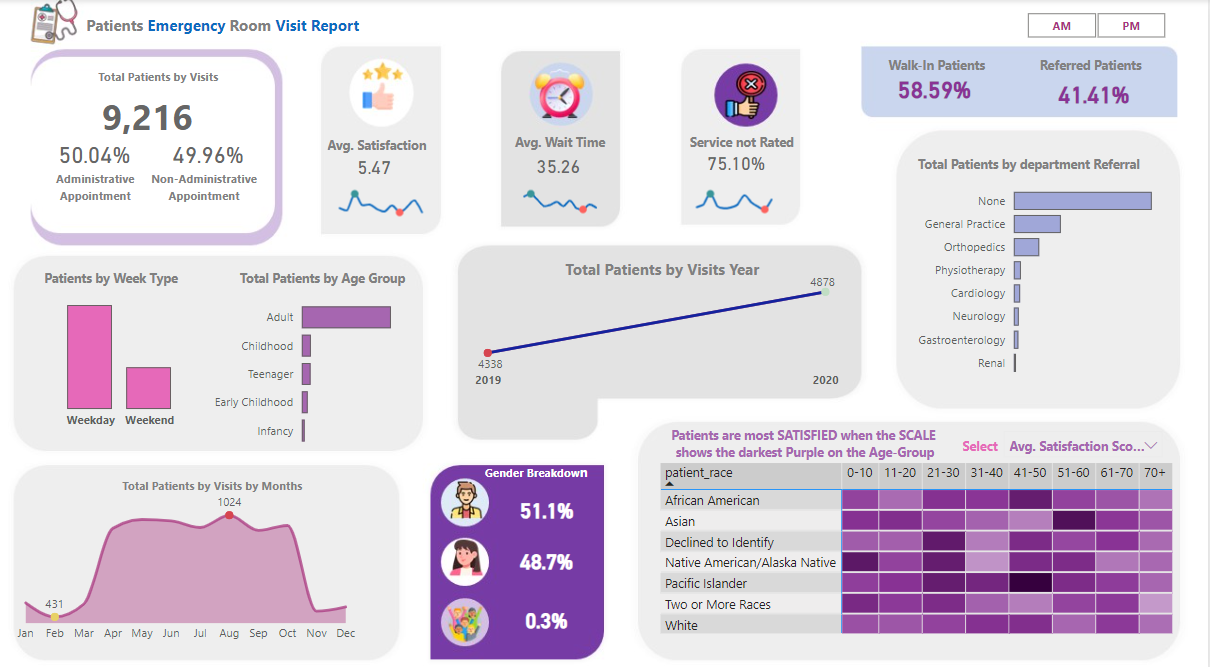

Layout of this report page (visuals, bound fields, positions):
{"tool":"powerbi","page":{"name":"Page 1","canvas":[1280,720],"ordinal":0},"visuals":[{"type":"card","fields":{"Values":["Calculation.Total Patients"]},"box":[50.9,98.6,210,50.9],"z":0},{"type":"card","fields":{"Values":["Calculation.% Administrative Schedule"]},"box":[49.3,149.5,100.2,30.2],"z":1000},{"type":"card","fields":{"Values":["Calculation.Non - Administrative Schedule"]},"box":[155.9,147.9,128.8,31.8],"z":2000},{"type":"card","fields":{"Values":["Calculation.% No Rating"]},"box":[720.5,159.1,119.3,30.2],"z":3000},{"type":"card","fields":{"Values":["Calculation.Average Wait Time"]},"box":[563.1,163.8,57.3,27],"z":4000},{"type":"clusteredBarChart","fields":{"Category":["Patient Dataset.Age Group"],"Y":["Calculation.Total Patients"]},"box":[214.7,300.6,216.3,186.1],"z":5000},{"type":"lineChart","title":"Total Patients visits","fields":{"Category":["Date.Month"],"Y":["Calculation.Total Patients","Calculation.Values Max Point (Month)"]},"box":[9.7,500.3,374,189.4],"z":6000},{"type":"lineChart","title":"Total Patients by Year","fields":{"Category":["Date.Year"],"Y":["Calculation.Total Patients","Calculation.Values Max Point (Year)"]},"box":[497.9,281.5,396.1,140],"z":7000},{"type":"clusteredBarChart","fields":{"Y":["Calculation.Total Patients"],"Category":["Patient Dataset.department_referral"]},"box":[960.7,181.3,281.5,229],"z":8000},{"type":"card","fields":{"Values":["Calculation.% Un Referred Patients"]},"box":[922.6,71.6,135.2,47.7],"z":9000},{"type":"card","fields":{"Values":["Calculation.HitMap Caption"]},"box":[695.1,432.6,316.5,76.3],"z":10000},{"type":"textbox","box":[46.1,175,109.8,62],"z":11000},{"type":"textbox","box":[147.9,175,136.8,58.9],"z":12000},{"type":"card","fields":{"Values":["Calculation.% Referred Patients"]},"box":[1113.4,77.9,92.3,46.1],"z":13000},{"type":"textbox","box":[1097.5,55.7,128.8,42.9],"z":14000},{"type":"textbox","box":[928.9,55.7,128.8,42.9],"z":15000},{"type":"clusteredColumnChart","title":"Patients by WeekType","fields":{"Y":["Calculation.Total Patients"],"Category":["Date.WeekType"]},"box":[9.5,286.3,235.4,178.1],"z":16000},{"type":"pivotTable","fields":{"Values":["Calculation.Average Satisfaction Score"],"Rows":["Patient Dataset.patient_race"],"Columns":["Patient Dataset.Age Buckets"]},"box":[695.1,486.7,563.1,192.5],"z":17000},{"type":"slicer","fields":{"Values":["Parameter.Parameter"]},"box":[1054.6,448.6,187.7,38.2],"z":18000},{"type":"textbox","box":[30.2,281.5,175,38.2],"z":19000},{"type":"card","fields":{"Values":["Calculation.% Female Visit"]},"box":[537.6,571,82.7,49.3],"z":20000},{"type":"card","fields":{"Values":["Calculation.% Male Visit"]},"box":[537.6,516.9,82.7,50.9],"z":21000},{"type":"card","fields":{"Values":["Calculation.% Unknown Visit"]},"box":[537.6,637.8,82.7,41.4],"z":22000},{"type":"textbox","box":[342,140,116.1,49.3],"z":23000},{"type":"textbox","box":[537.6,136.8,116.1,28.6],"z":24000},{"type":"textbox","box":[720.5,136.8,132,44.5],"z":25000},{"type":"textbox","box":[243.4,281.5,197.2,38.2],"z":26000},{"type":"textbox","box":[50.9,66.8,233.8,31.8],"z":27000},{"type":"card","fields":{"Values":["Calculation.Average Satisfaction Score"]},"box":[348.3,160.7,95.4,35],"z":28000},{"type":"PBI_CV_25997FEB_F466_44FA_B562_AC4063283C4C","fields":{"axis":["Date.Month"],"measure":["Calculation.Average Satisfaction Score"]},"box":[342,189.3,127.2,47.7],"z":29000},{"type":"PBI_CV_25997FEB_F466_44FA_B562_AC4063283C4C","fields":{"axis":["Date.Month"],"measure":["Calculation.Average Wait Time"]},"box":[537.6,189.3,116.1,44.5],"z":30000},{"type":"PBI_CV_25997FEB_F466_44FA_B562_AC4063283C4C","fields":{"axis":["Date.Month"],"measure":["Calculation.% No Rating"]},"box":[720.5,189.3,119.3,44.5],"z":31000},{"type":"textbox","box":[956,160.7,270.4,44.5],"z":32000},{"type":"textbox","box":[108.2,501,233.8,31.8],"z":33000},{"type":"textbox","box":[497.9,486.7,141.6,41.4],"z":34000},{"type":"textbox","box":[585.3,270.4,233.8,31.8],"z":35000},{"type":"textbox","box":[0,11.1,472.4,31.8],"z":36000},{"type":"textbox","box":[991,459.7,100.2,36.6],"z":37000},{"type":"slicer","fields":{"Values":["Patient Dataset.Moment"]},"box":[1064.1,8,195.6,35],"z":38000}]}

Visuals, with their boxes in screenshot pixels (x1, y1, x2, y2), scaled from the page's 1280x720 canvas onto the 1210x667 screenshot:
card - Calculation.Total Patients: 48 91 247 138
card - Calculation.% Administrative Schedule: 47 138 141 166
card - Calculation.Non - Administrative Schedule: 147 137 269 166
card - Calculation.% No Rating: 681 147 794 175
card - Calculation.Average Wait Time: 532 152 586 177
clusteredBarChart - Patient Dataset.Age Group x Calculation.Total Patients: 203 278 407 451
"Total Patients visits" lineChart: 9 463 363 639
"Total Patients by Year" lineChart: 471 261 845 390
clusteredBarChart - Calculation.Total Patients x Patient Dataset.department_referral: 908 168 1174 380
card - Calculation.% Un Referred Patients: 872 66 1000 111
card - Calculation.HitMap Caption: 657 401 956 471
textbox: 44 162 147 220
textbox: 140 162 269 217
card - Calculation.% Referred Patients: 1053 72 1140 115
textbox: 1037 52 1159 91
textbox: 878 52 1000 91
"Patients by WeekType" clusteredColumnChart: 9 265 232 430
pivotTable - Calculation.Average Satisfaction Score x Patient Dataset.patient_race: 657 451 1189 629
slicer - Parameter.Parameter: 997 416 1174 451
textbox: 29 261 194 296
card - Calculation.% Female Visit: 508 529 586 575
card - Calculation.% Male Visit: 508 479 586 526
card - Calculation.% Unknown Visit: 508 591 586 629
textbox: 323 130 433 175
textbox: 508 127 618 153
textbox: 681 127 806 168
textbox: 230 261 417 296
textbox: 48 62 269 91
card - Calculation.Average Satisfaction Score: 329 149 419 181
PBI_CV_25997FEB_F466_44FA_B562_AC4063283C4C - Date.Month x Calculation.Average Satisfaction Score: 323 175 444 220
PBI_CV_25997FEB_F466_44FA_B562_AC4063283C4C - Date.Month x Calculation.Average Wait Time: 508 175 618 217
PBI_CV_25997FEB_F466_44FA_B562_AC4063283C4C - Date.Month x Calculation.% No Rating: 681 175 794 217
textbox: 904 149 1159 190
textbox: 102 464 323 494
textbox: 471 451 605 489
textbox: 553 250 774 280
textbox: 0 10 447 40
textbox: 937 426 1032 460
slicer - Patient Dataset.Moment: 1006 7 1191 40
